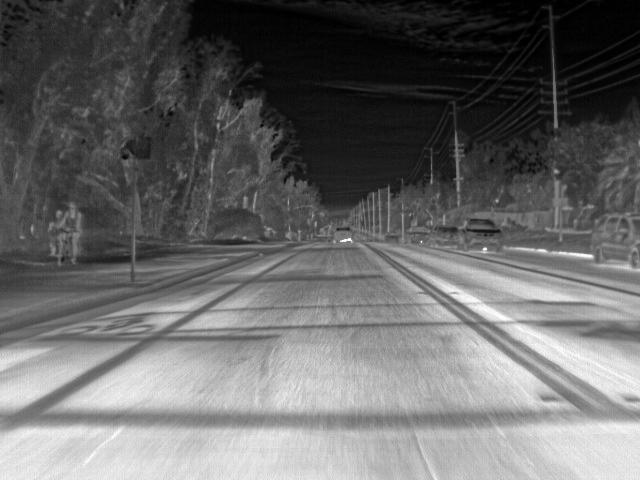car: (589, 213, 640, 268), (459, 218, 504, 250), (430, 225, 460, 247), (408, 226, 428, 246), (333, 227, 354, 245), (385, 232, 400, 244)
person: (50, 208, 63, 267), (64, 201, 82, 236)
